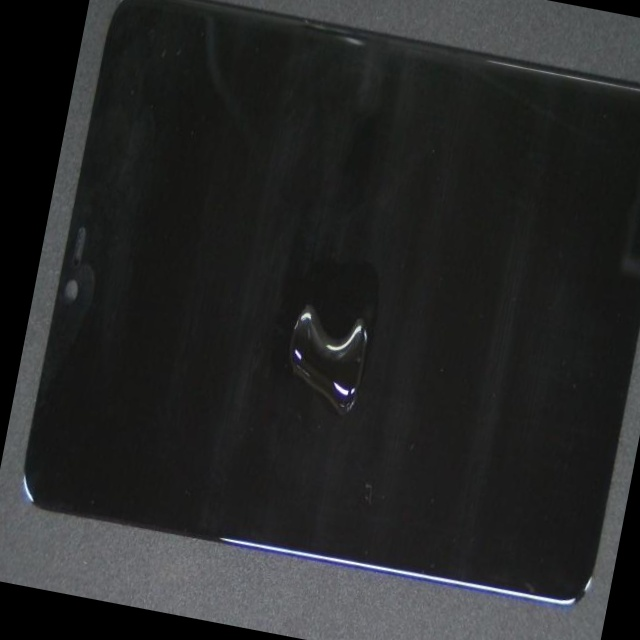oil: (89, 100, 491, 598)
